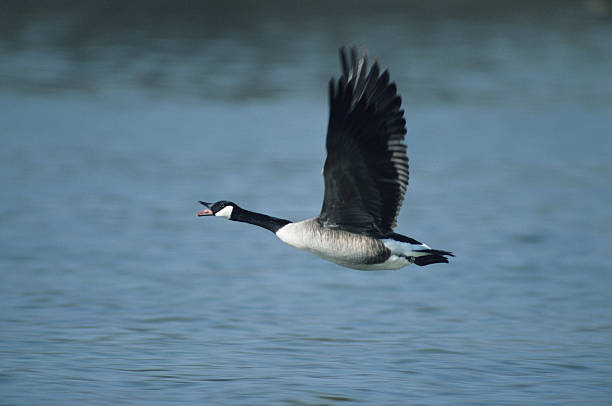goose: (191, 43, 457, 275)
